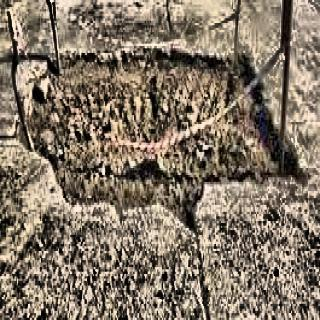crack: (191, 239, 213, 320), (166, 2, 174, 42)
pothole: (14, 47, 308, 234)
